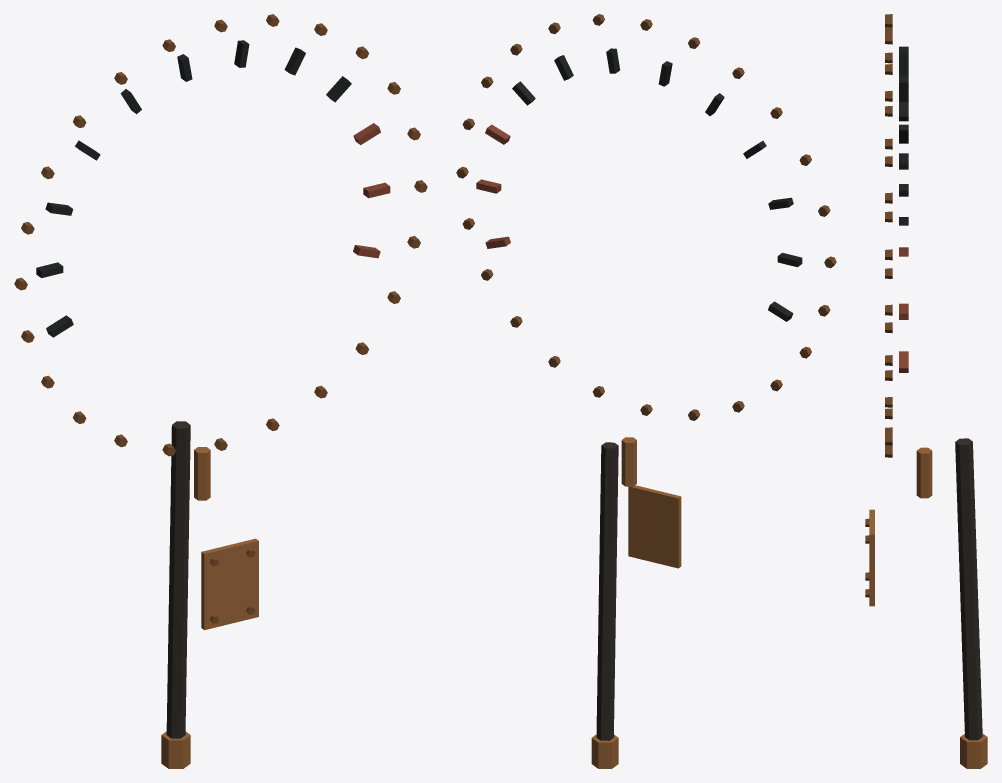
File: gauge_detail2.glb
3 views of the same model, side by side, from view 1: azimuth 30°, elevation 25°; view 2: azimuth 150°, elevation 25°; view 3: azimuth 270°, elevation 25° (orthographic). The views are drawn at different scales.
Visible parts, largest first — view 1: gauge_detail2.001; view 2: gauge_detail2.001; view 3: gauge_detail2.001.
Boxes of the visible parts, x1=… form: gauge_detail2.001: x1=14, y1=14, x2=427, y2=768; gauge_detail2.001: x1=456, y1=14, x2=836, y2=768; gauge_detail2.001: x1=865, y1=14, x2=987, y2=768.
Bounding box in the file's own units: 2.26 × 4.07 × 0.62.
